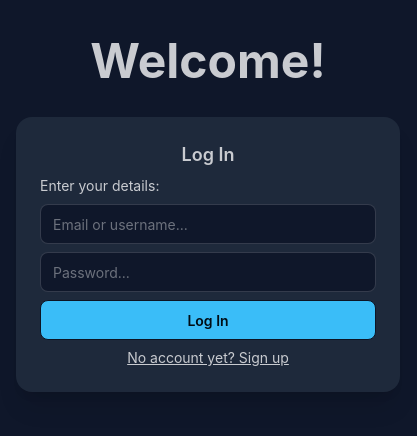
Scenario: AuthPage › shows a generic message for unexpected errors
In the field with placeholder "Email or username...": (208, 224) [40,204,376,244], type "viewer@cineweb.com"
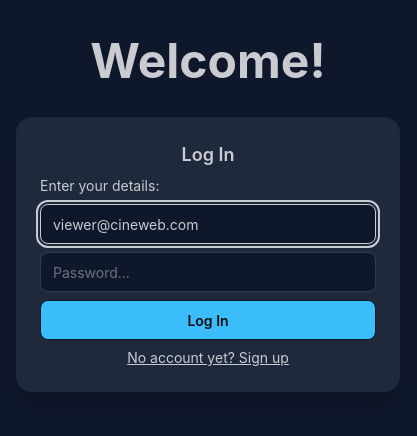
In the password field with placeholder "Password...": (208, 272) [40,252,376,292], type "wrong-password"
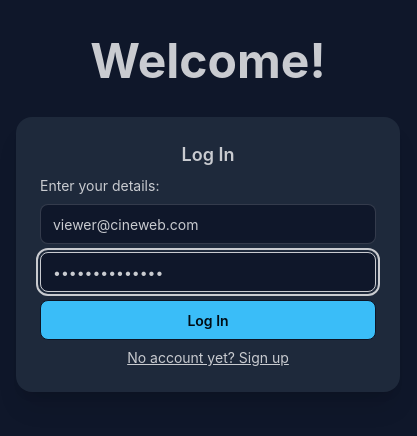
Click the button "Log In": (208, 320) [40,300,376,340]
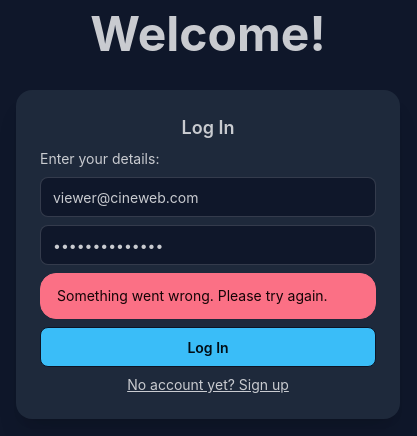
Now the message reads "Something went wrong. Please try again.", box [57,287,328,304]
